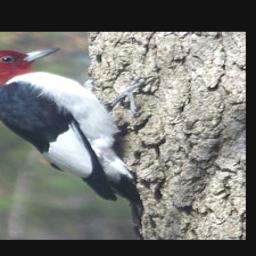Woodpecker: (0, 46, 163, 206)
